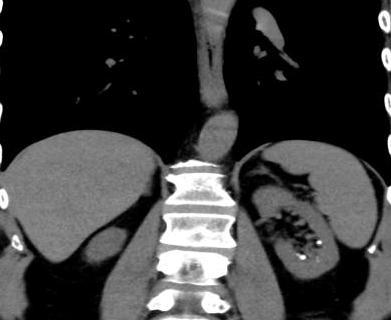Tas_Var: (315, 239, 323, 246), (299, 254, 307, 260), (294, 252, 302, 256), (315, 258, 321, 262), (315, 256, 320, 258)
